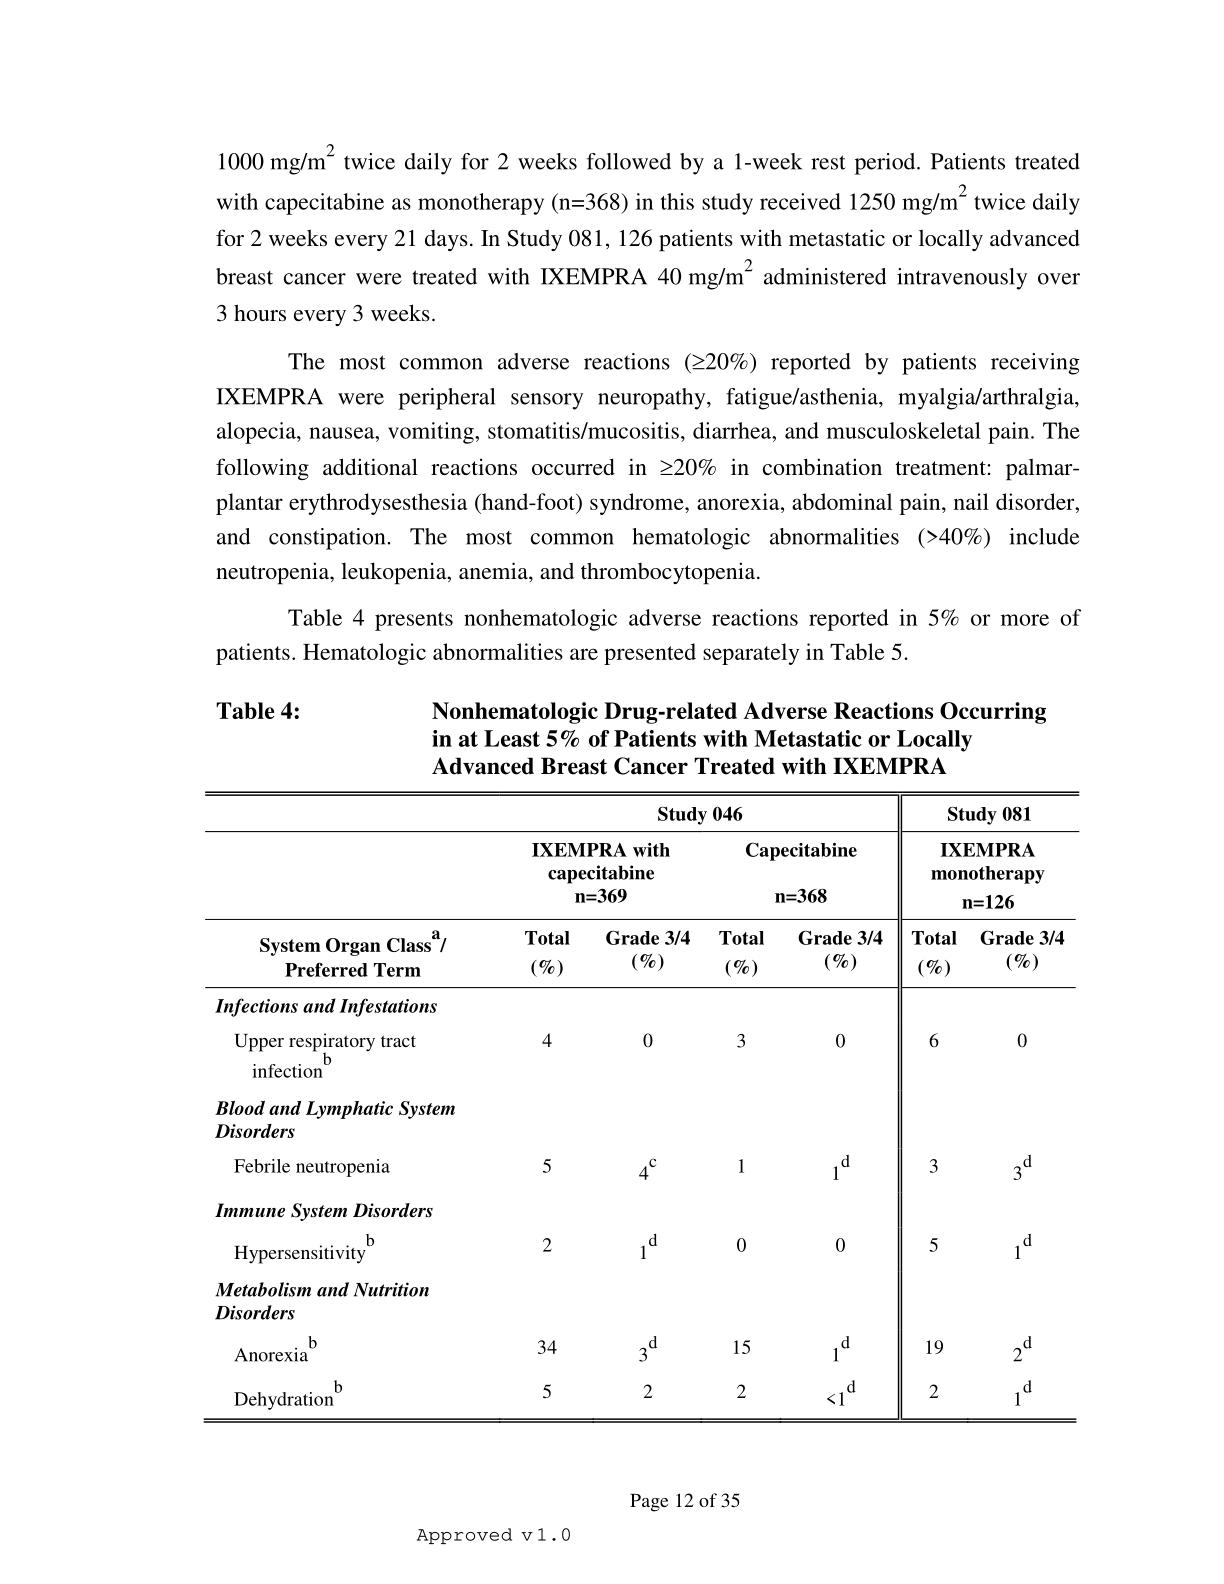partial_lined_merged_cells: (201, 789, 1079, 1425)
